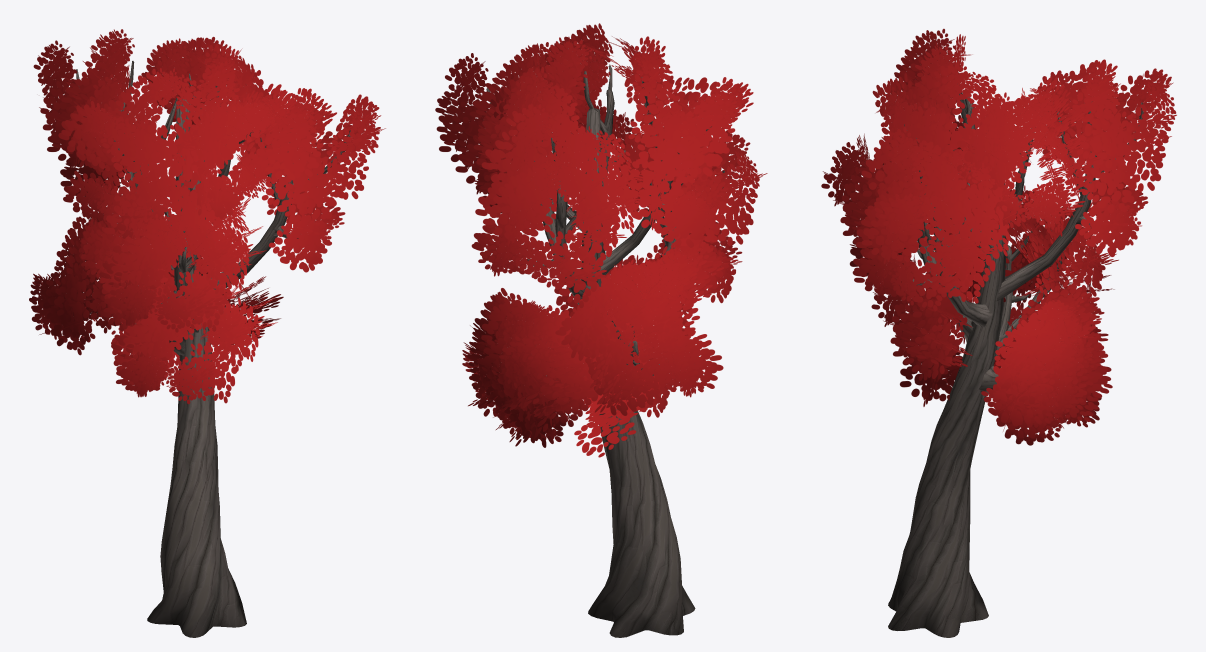
The model's file is twisted-tree-1.glb.
The picture shows the model from 3 angles, left to right: view 1: azimuth 30°, elevation 25°; view 2: azimuth 150°, elevation 25°; view 3: azimuth 270°, elevation 25°; orthographic projection. The views are drawn at different scales.
Parts seen in each view (by area): view 1: TwistedTree_5; view 2: TwistedTree_5; view 3: TwistedTree_5.
Boxes of the visible parts, x1,y1,x2,y2 form: TwistedTree_5: (29,29,385,637); TwistedTree_5: (435,23,767,637); TwistedTree_5: (821,28,1176,637).
Bounding box in the file's own units: 9.49 × 15.66 × 9.39.
Materials: 2 (2 with a texture image).
